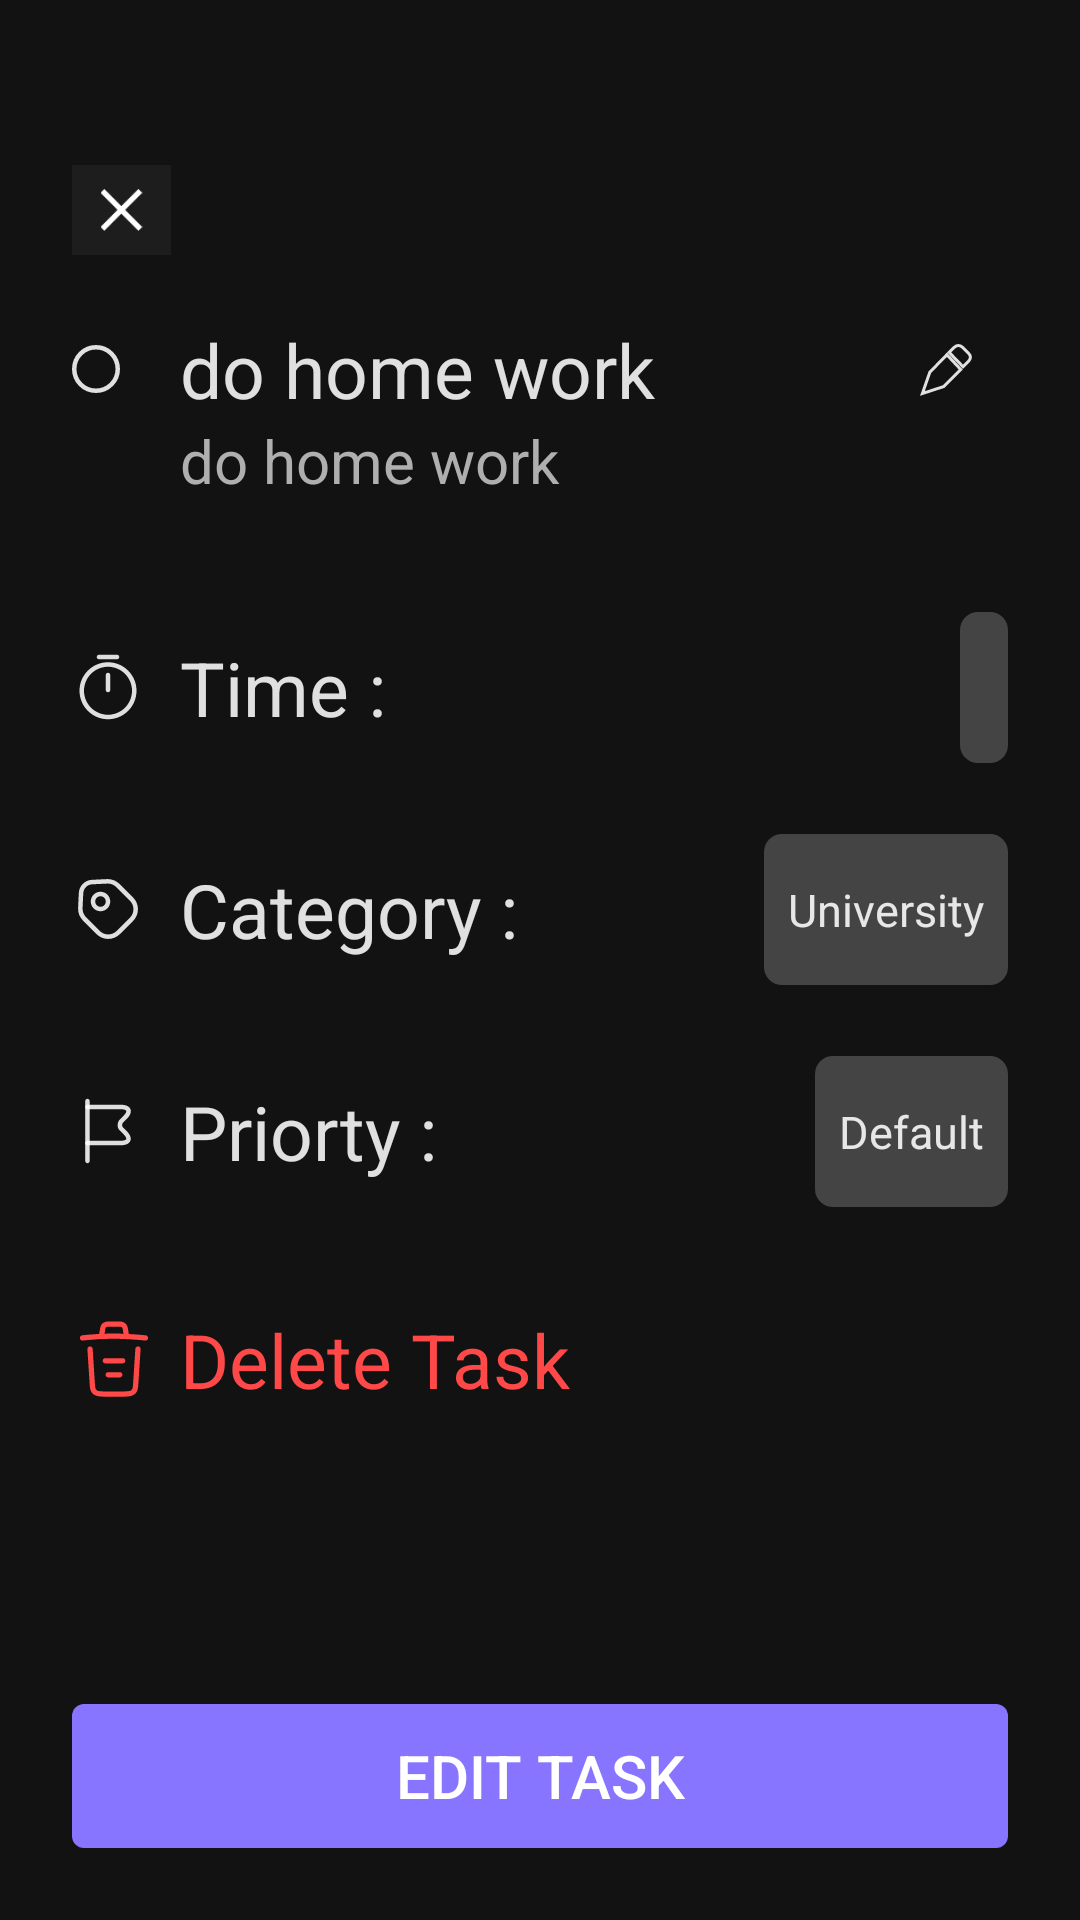

Named icons in this screenshot (1080*1920) and their centers, [x,y]:
close: [121,210]
edit: [946,370]
flag: [108,1131]
task check: [96,369]
trash: [114,1359]
